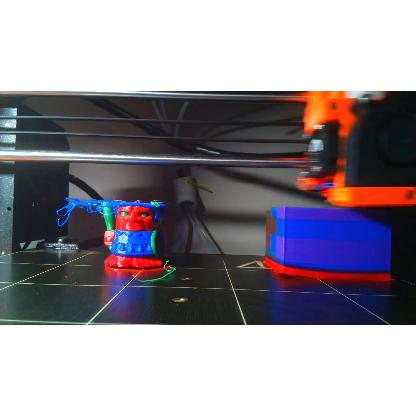fail: (53, 196, 115, 226), (132, 260, 180, 284)
